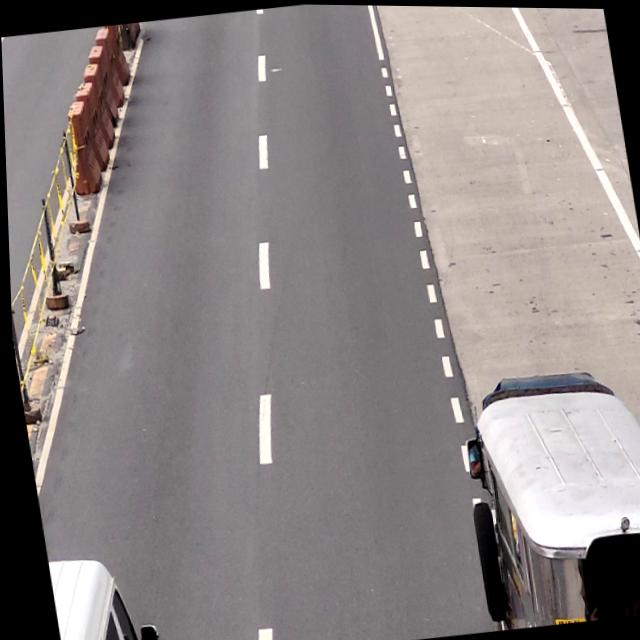Jeep: (454, 361, 640, 630)
